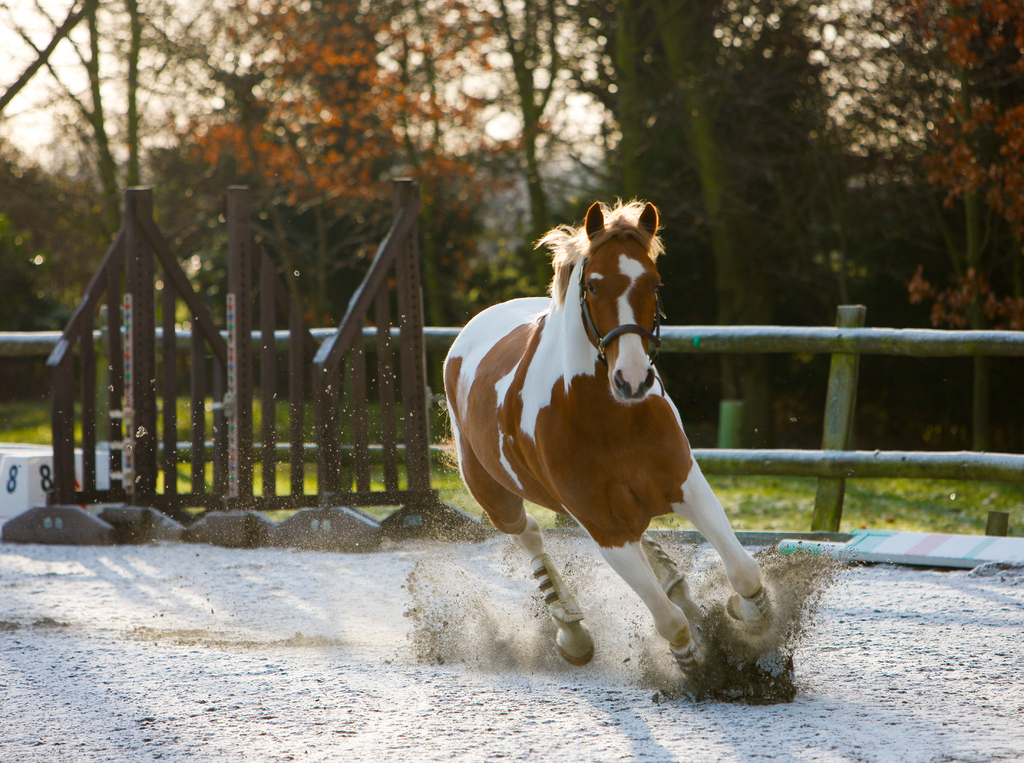horse: (443, 194, 775, 678)
